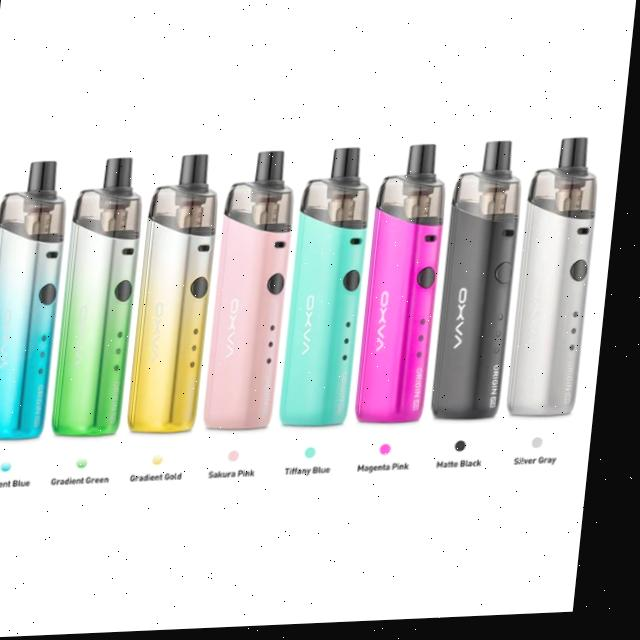vape: (58, 158, 153, 441), (134, 155, 228, 439), (210, 152, 304, 436), (362, 147, 456, 431), (287, 150, 381, 433), (514, 141, 608, 424), (438, 145, 532, 427), (0, 160, 77, 444)
